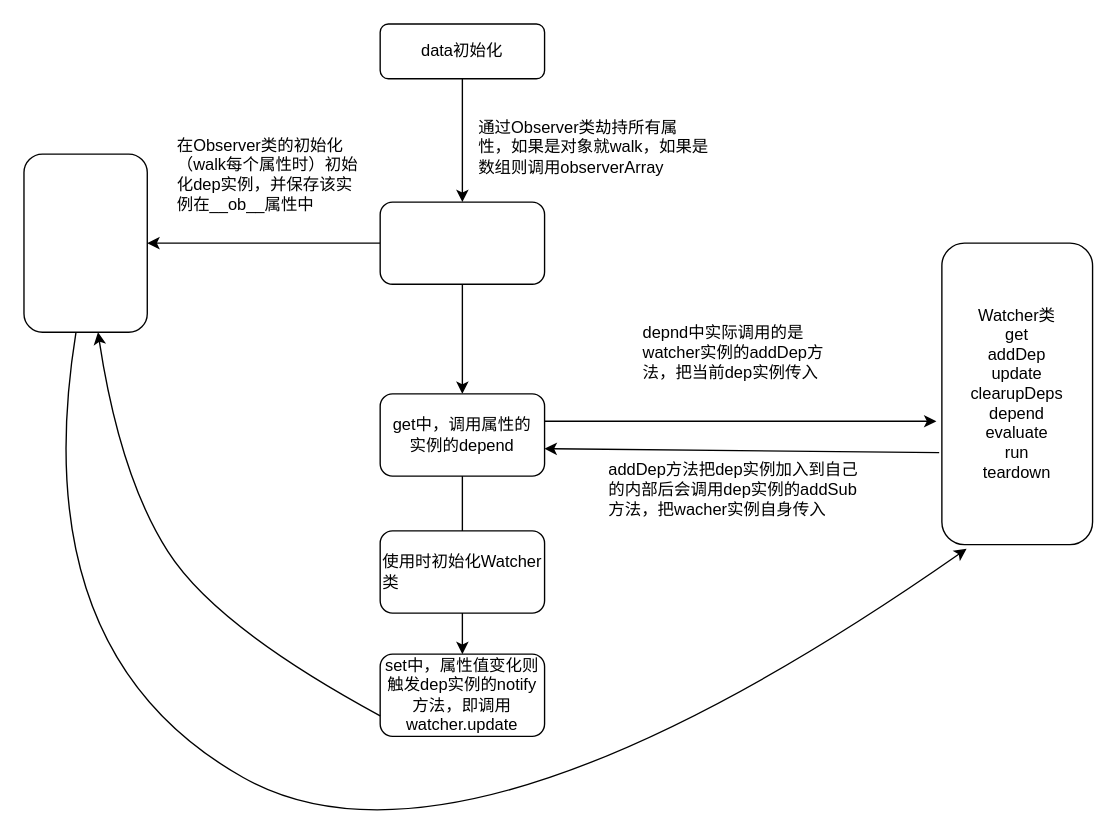
Some shapes in this 1117 by 834 pixel diagram are drawn without their labels. Each missing label, with the centre of its shape:
Dep类 addSub removeSub depend notify: the point at 85,242
Observer类 walk observArray: the point at 462,242
